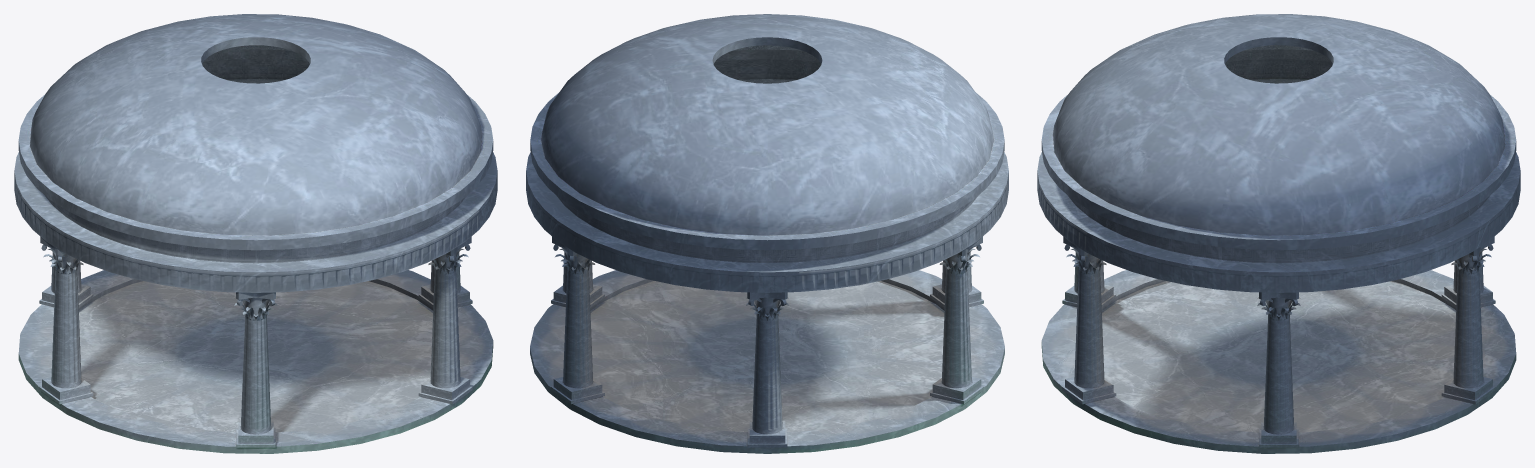
The model's file is romanGazibo_collider.glb.
The picture shows the model from 3 angles, left to right: view 1: azimuth 30°, elevation 25°; view 2: azimuth 150°, elevation 25°; view 3: azimuth 270°, elevation 25°; orthographic projection.
Visible parts, largest first — view 1: Dome, Base, DomeUnder, ColumnThick.005; view 2: Dome, Base, DomeUnder, ColumnThick.005; view 3: Dome, Base, DomeUnder, ColumnThick.005.
Part boxes in pixels (box(x1,y1,x2,y2)): Dome: box(30, 14, 481, 235); Base: box(18, 270, 493, 453); DomeUnder: box(14, 45, 497, 292); ColumnThick.005: box(39, 236, 472, 447); Dome: box(541, 14, 993, 235); Base: box(530, 270, 1004, 453); DomeUnder: box(526, 45, 1008, 292); ColumnThick.005: box(551, 236, 983, 447); Dome: box(1053, 14, 1504, 235); Base: box(1041, 270, 1516, 453); DomeUnder: box(1037, 45, 1520, 292); ColumnThick.005: box(1062, 236, 1495, 447).
Size of what is drawn, in the model's own units: 32 by 21.44 by 32.
14 materials, 12 textured.
